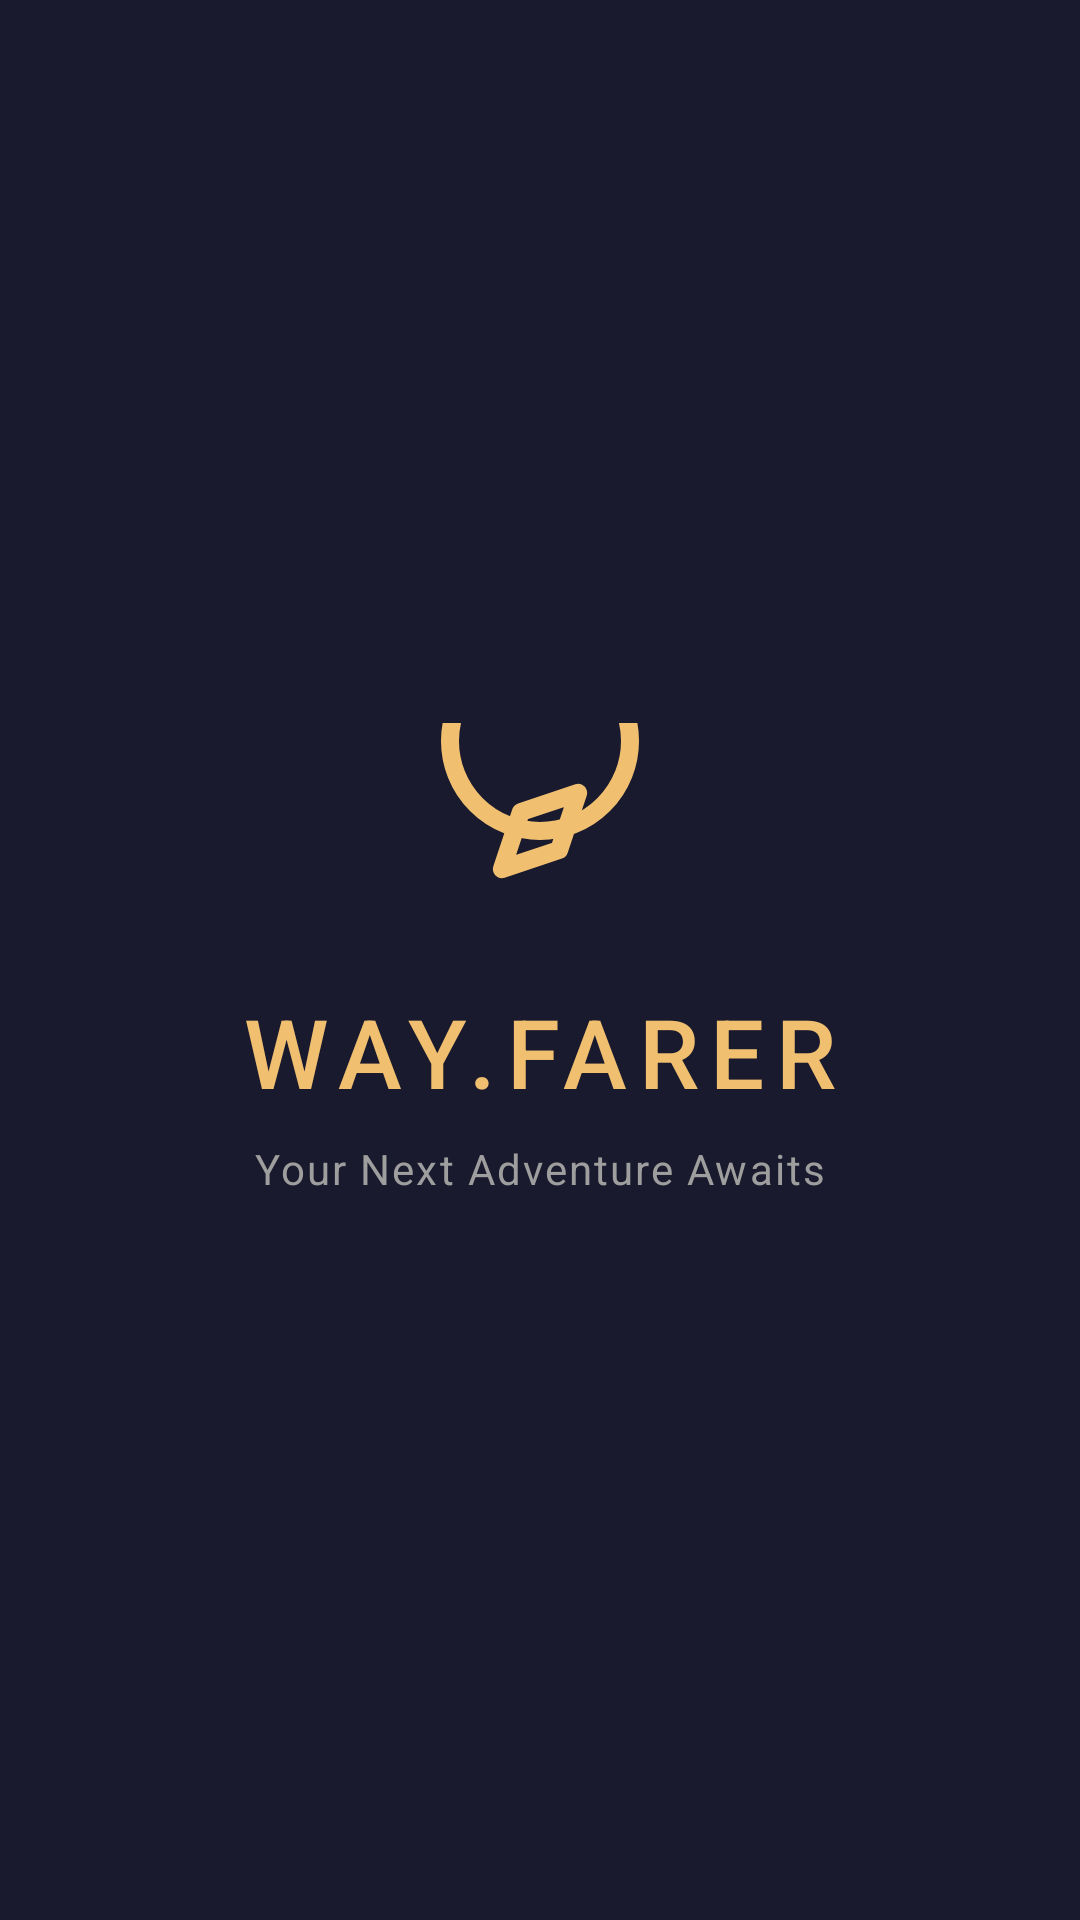

Icons on this 1080*1920 Android screen, each with the point to tap as (x,y):
compass: (540,801)
